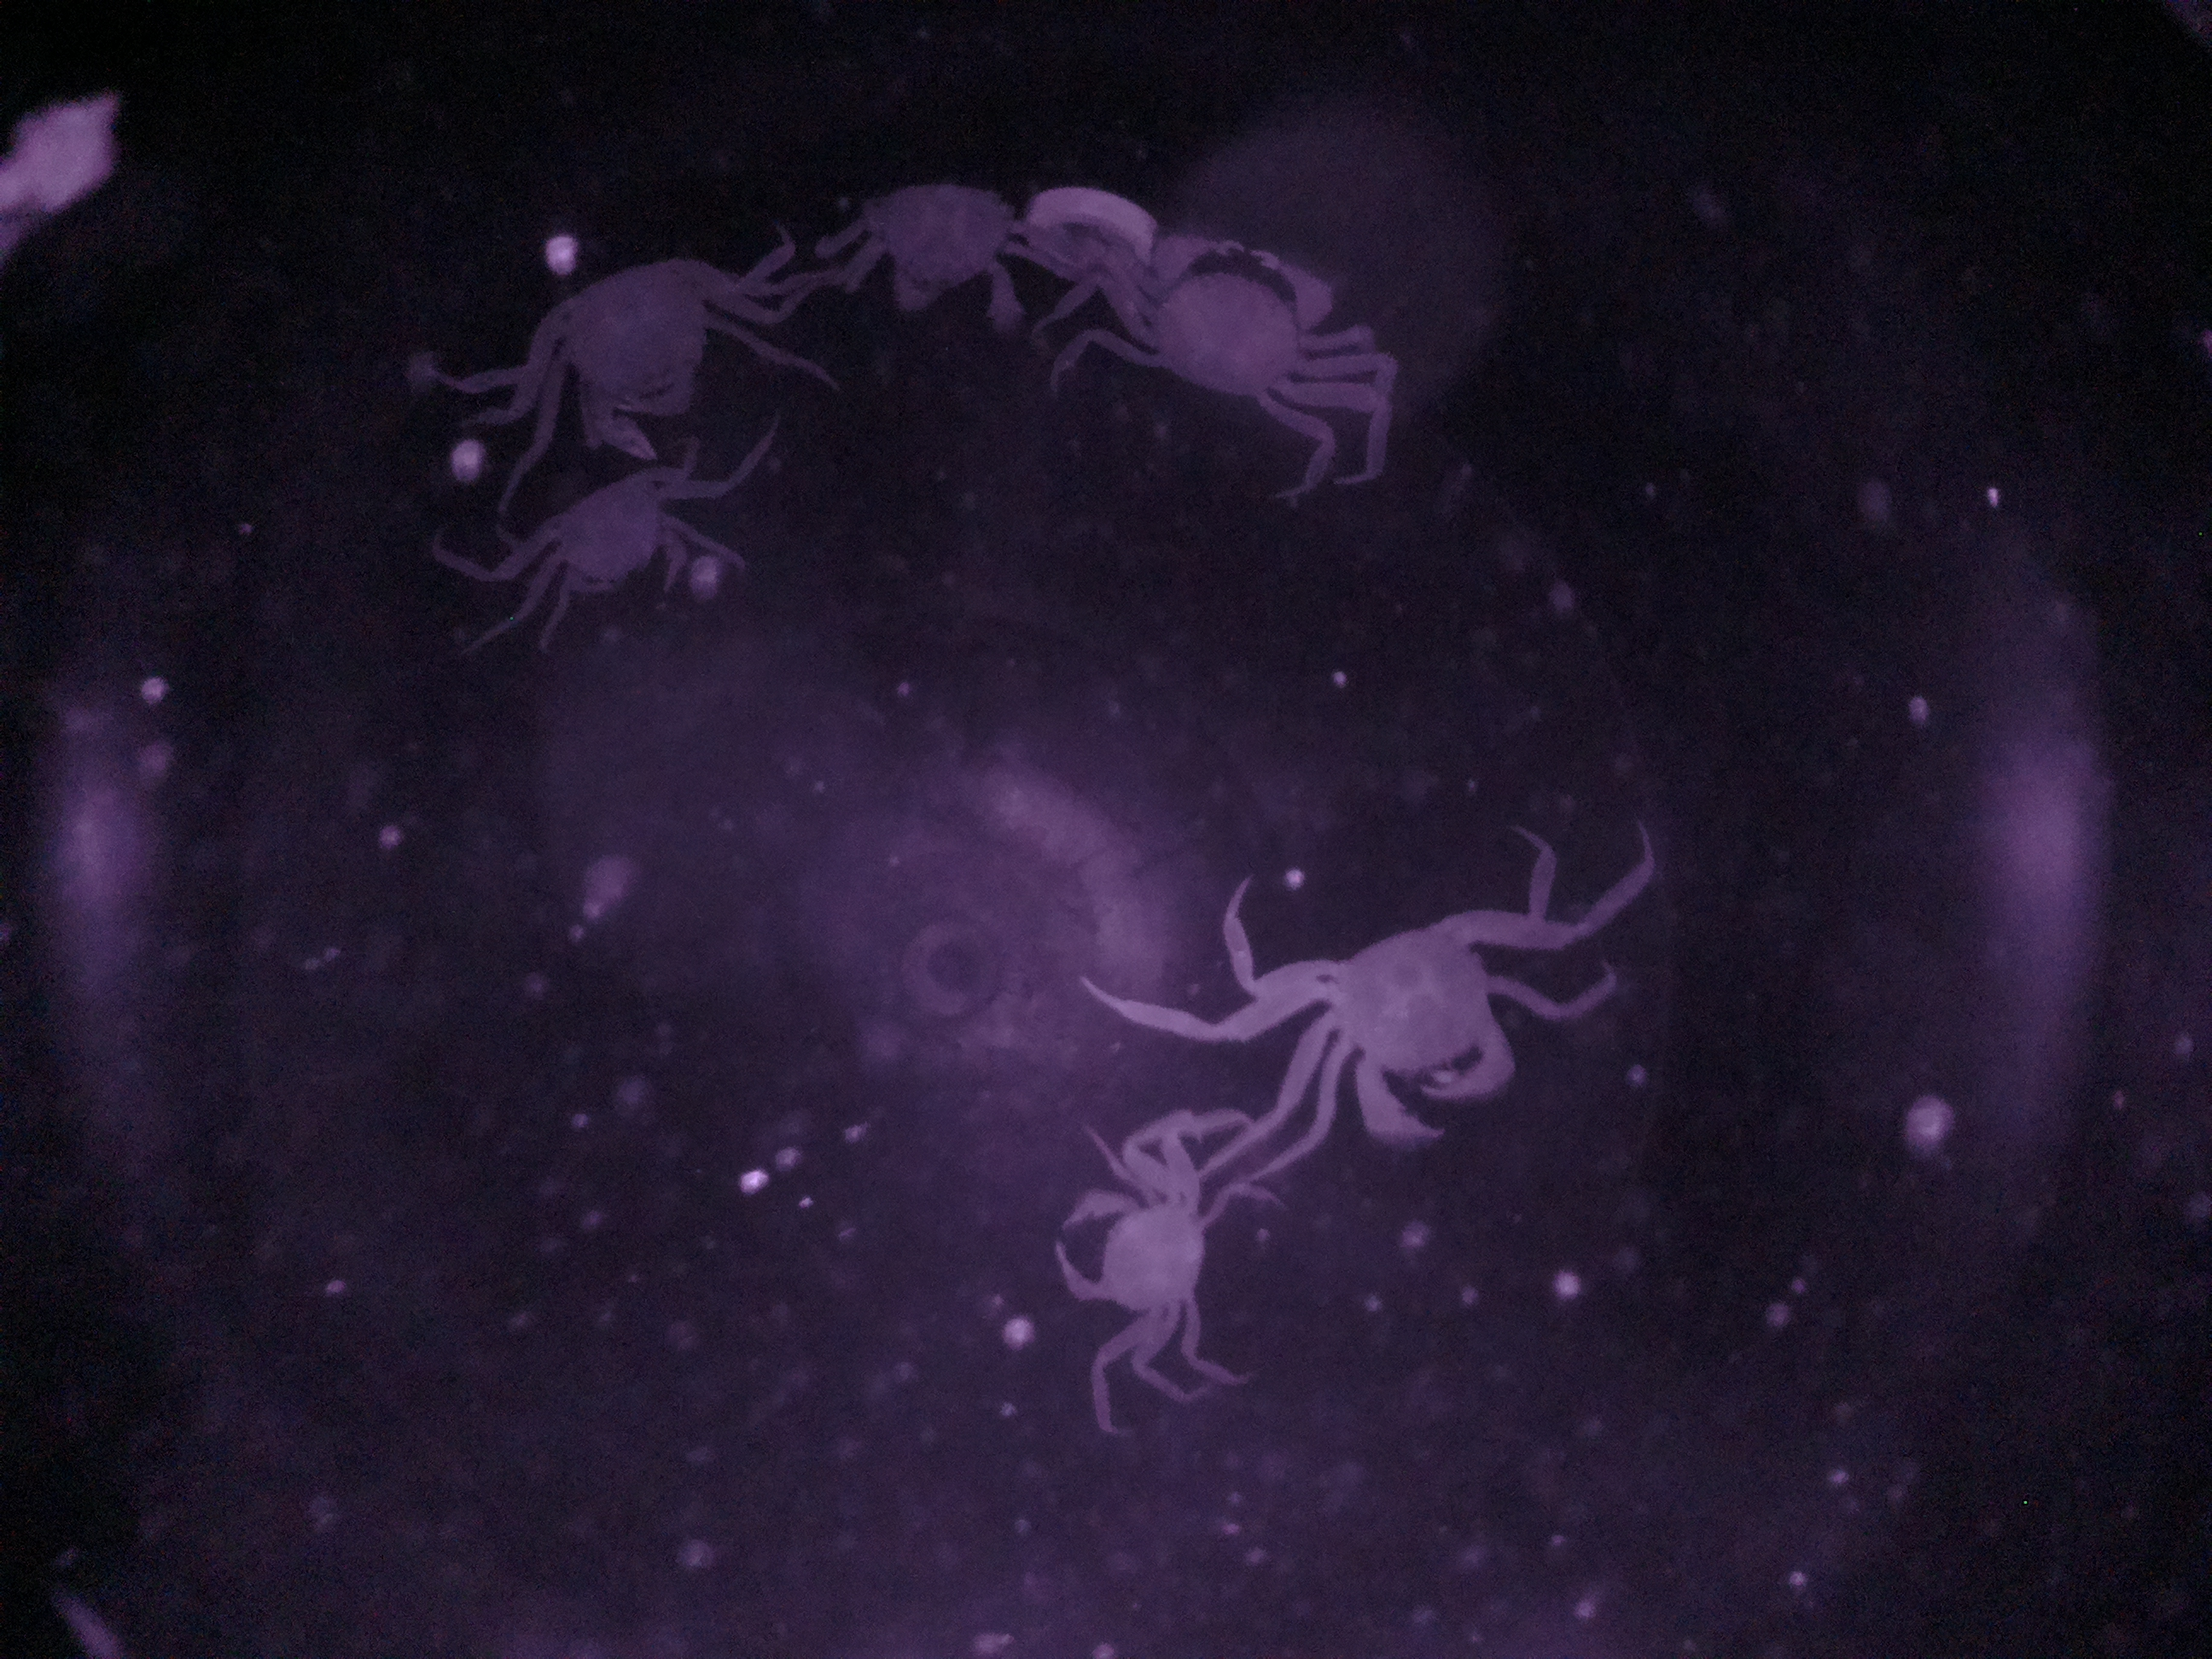Crab: (1278, 887, 1557, 1161), (1092, 223, 1346, 425), (1047, 1140, 1228, 1354), (505, 472, 716, 636)
